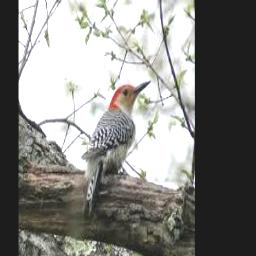Woodpecker: (82, 79, 151, 216)
